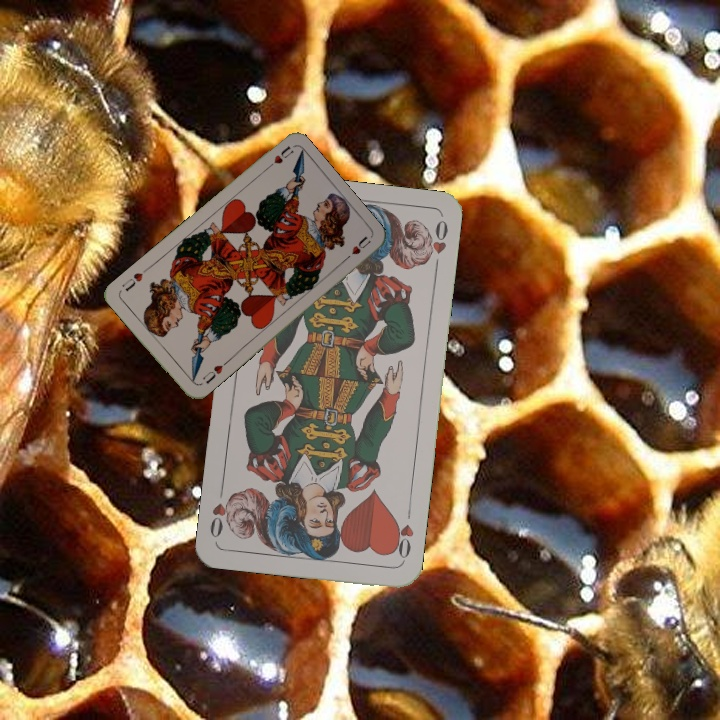HO: (388, 504, 417, 563)
HU: (261, 142, 296, 173), (198, 358, 230, 387)
